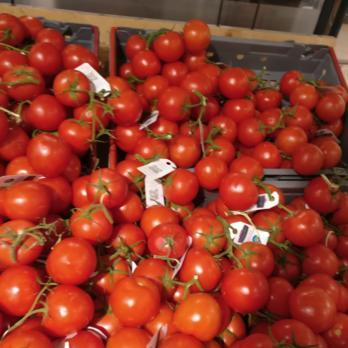Tomato: (1, 177, 347, 348), (119, 22, 240, 175), (1, 12, 115, 172), (243, 71, 348, 169)
